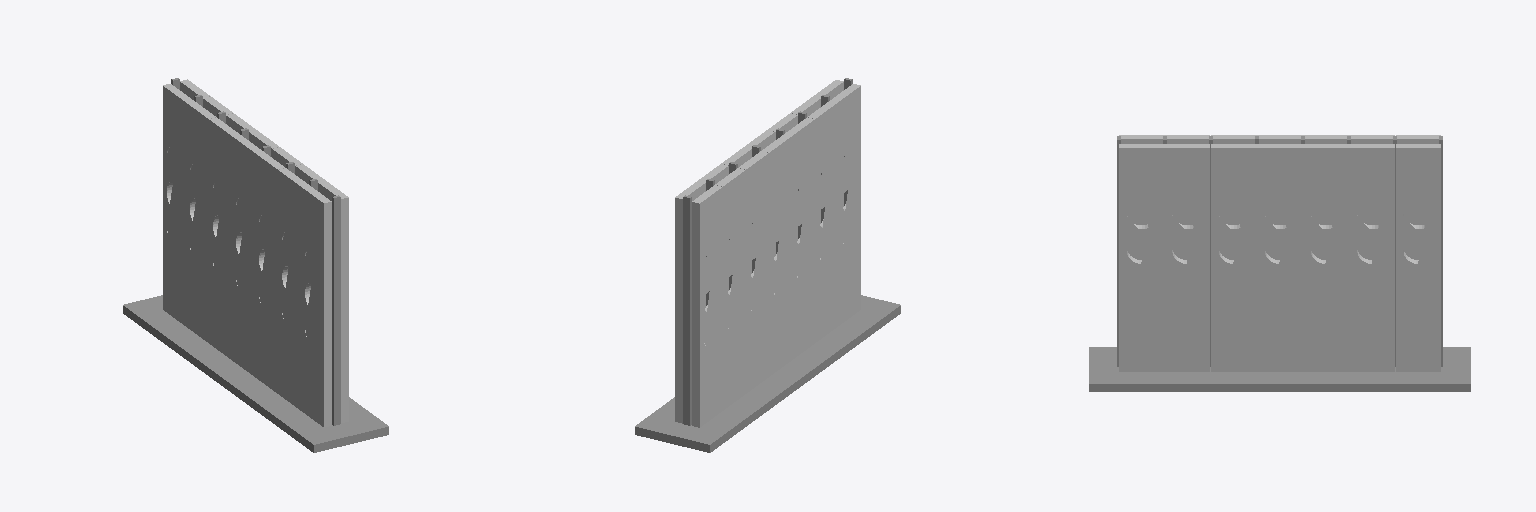
Rendered from Spielbrett1Version.obj.
The picture shows the model from 3 angles: view 1: azimuth 30°, elevation 25°; view 2: azimuth 150°, elevation 25°; view 3: azimuth 270°, elevation 25°; orthographic projection.
Visible parts, largest first — view 1: VorderWand_Cube.009, Boden_Cube.003, Rückwand_Cube.016; view 2: VorderWand_Cube.009, Boden_Cube.003, Rückwand_Cube.016; view 3: Rückwand_Cube.016, Boden_Cube.003, VorderWand_Cube.009.
Boxes of the visible parts, x1,y1,x2,y2 form: VorderWand_Cube.009: [163, 84, 331, 427]; Boden_Cube.003: [123, 78, 388, 452]; Rückwand_Cube.016: [180, 79, 348, 422]; VorderWand_Cube.009: [692, 84, 860, 427]; Boden_Cube.003: [635, 78, 900, 452]; Rückwand_Cube.016: [675, 80, 843, 423]; Rückwand_Cube.016: [1119, 144, 1440, 371]; Boden_Cube.003: [1089, 136, 1470, 391]; VorderWand_Cube.009: [1119, 135, 1440, 143].
Size of the model in its own units: 2.28 by 6.8 by 10.